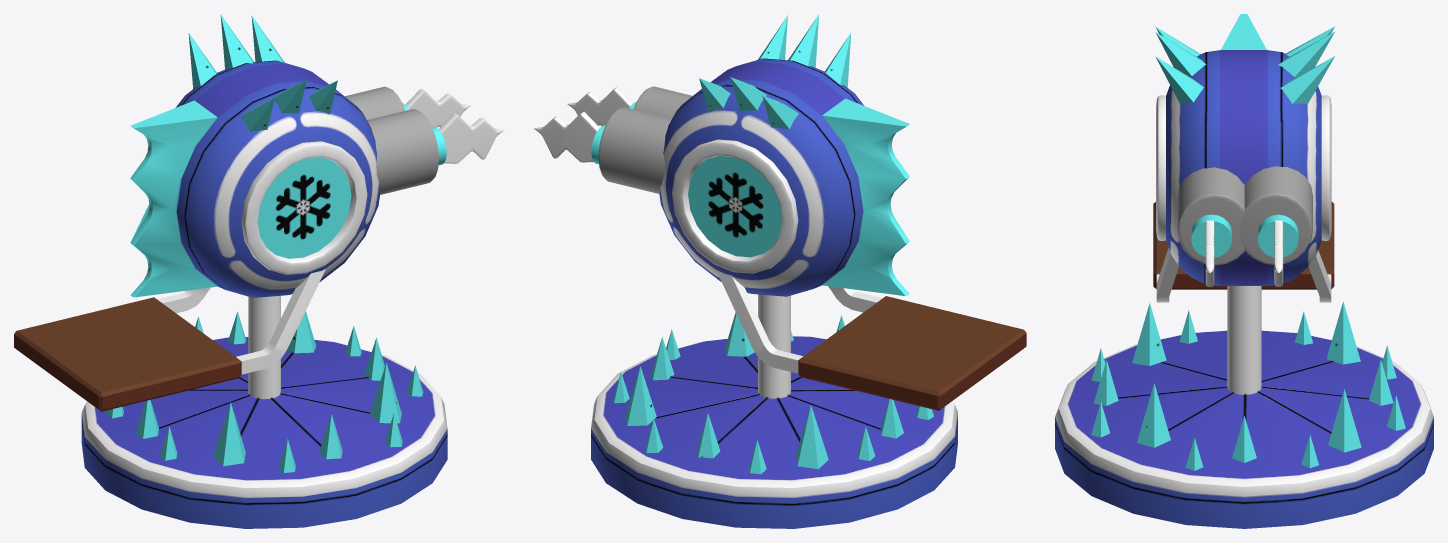
The model's file is FreezerayUG1.fbx.
3 views of the same model, side by side, from view 1: azimuth 30°, elevation 25°; view 2: azimuth 150°, elevation 25°; view 3: azimuth 270°, elevation 25° (orthographic). The views are drawn at different scales.
Visible parts, largest first — view 1: Top_Shrinkray2, Bottom_Freezeray; view 2: Top_Shrinkray2, Bottom_Freezeray; view 3: Bottom_Freezeray, Top_Shrinkray2.
Boxes of the visible parts, left/top/right/bottom form: Top_Shrinkray2: left=14, top=14, right=504, bottom=411; Bottom_Freezeray: left=81, top=295, right=447, bottom=528; Top_Shrinkray2: left=534, top=14, right=1026, bottom=410; Bottom_Freezeray: left=591, top=294, right=957, bottom=528; Bottom_Freezeray: left=1055, top=286, right=1433, bottom=528; Top_Shrinkray2: left=1153, top=14, right=1334, bottom=302.
Bounding box in the file's own units: 87.2 × 78.17 × 64.27.
Materials: 2 (1 with a texture image).
